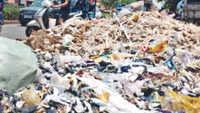trash: (0, 11, 200, 113)
